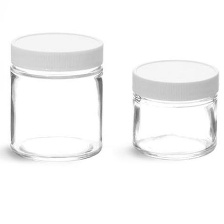bottle: (5, 31, 109, 163), (127, 52, 222, 161)
